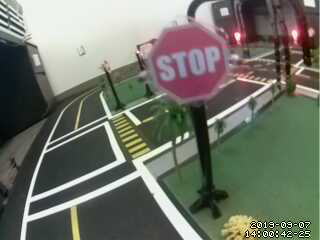Stop_Sign: (135, 27, 235, 99)
